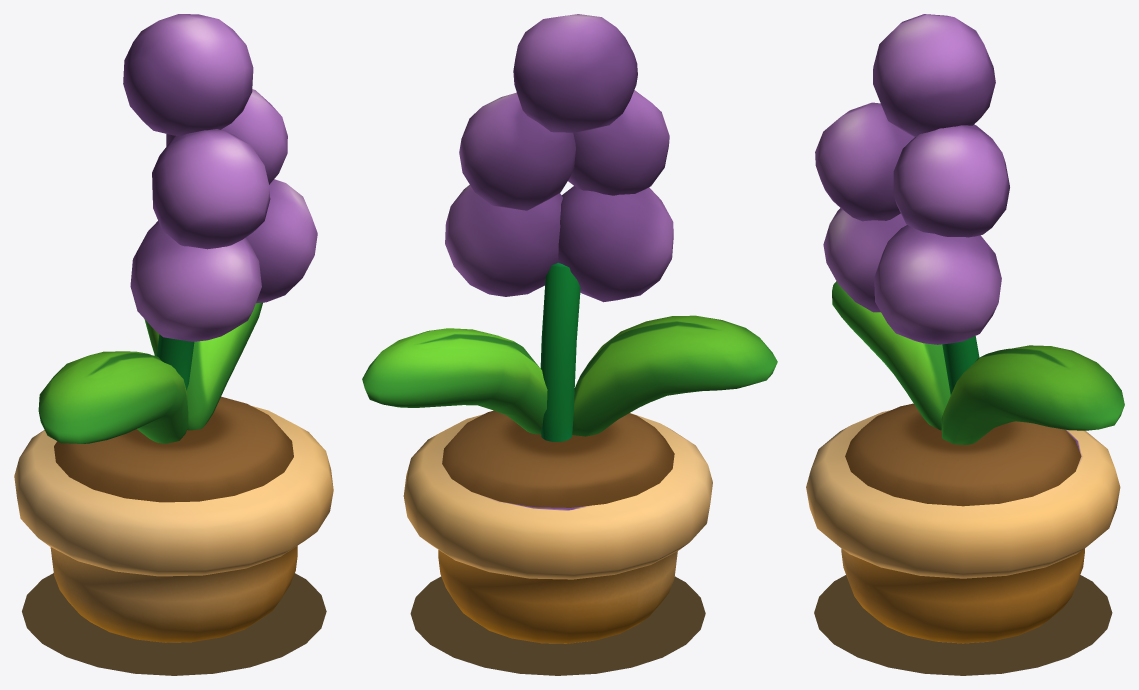
Rendered from Flower02P_L04.fbx.
The picture shows the model from 3 angles, left to right: view 1: azimuth 30°, elevation 25°; view 2: azimuth 150°, elevation 25°; view 3: azimuth 270°, elevation 25°; orthographic projection. The views are drawn at different scales.
Visible parts, largest first — view 1: Flower2PL4_Body, Flower2PL4_Base, Flower2PL4_SDW; view 2: Flower2PL4_Body, Flower2PL4_Base, Flower2PL4_SDW; view 3: Flower2PL4_Body, Flower2PL4_Base, Flower2PL4_SDW.
Part boxes in pixels (left/top/right/bottom): Flower2PL4_Body: left=38, top=14, right=317, bottom=443; Flower2PL4_Base: left=14, top=396, right=333, bottom=642; Flower2PL4_SDW: left=22, top=573, right=326, bottom=675; Flower2PL4_Body: left=362, top=14, right=777, bottom=441; Flower2PL4_Base: left=403, top=410, right=712, bottom=643; Flower2PL4_SDW: left=410, top=576, right=705, bottom=675; Flower2PL4_Body: left=815, top=14, right=1124, bottom=444; Flower2PL4_Base: left=806, top=403, right=1120, bottom=643; Flower2PL4_SDW: left=814, top=575, right=1112, bottom=675.
Size of the model in its own units: 101 by 185 by 90.71.
2 materials, 1 textured.
